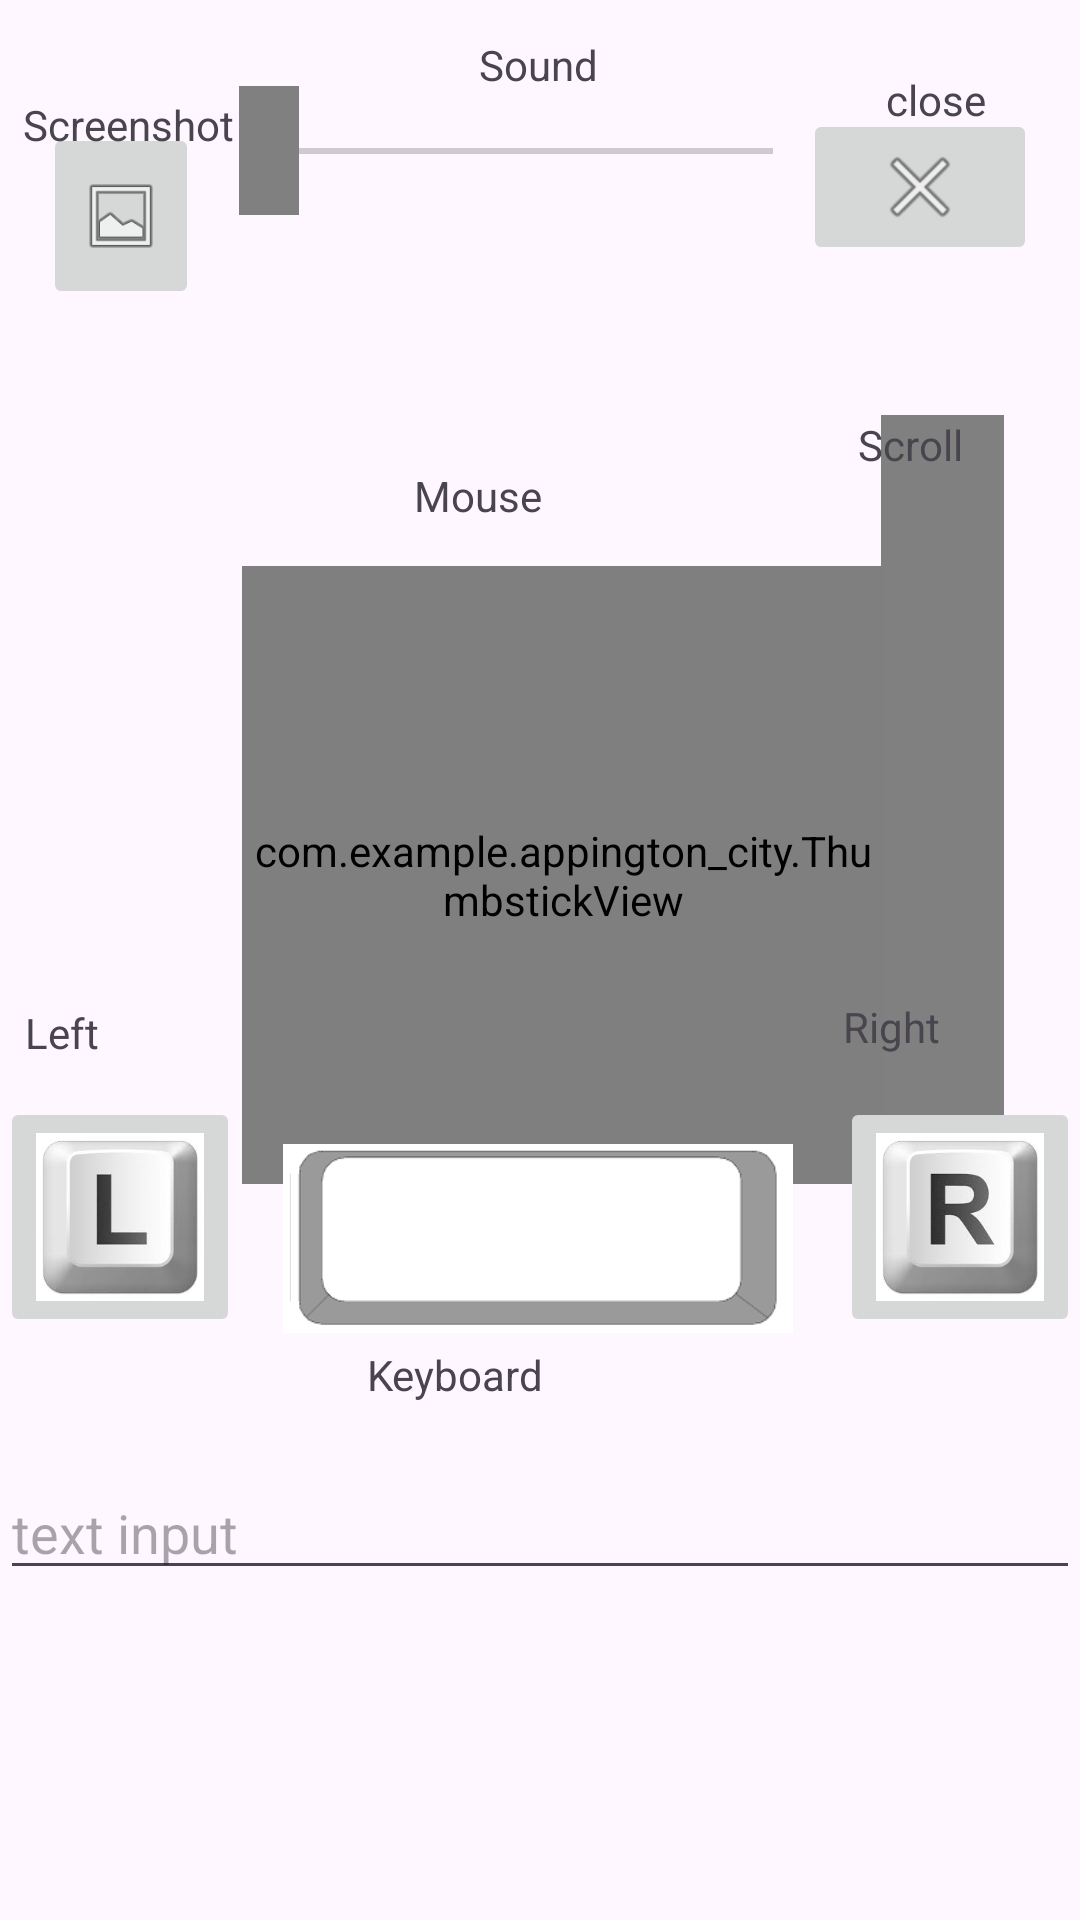

Icons on this 1080 x 1920 Android screen, each with its box as [x1, y1, x2, y2]:
gallery: [43, 123, 199, 291]
